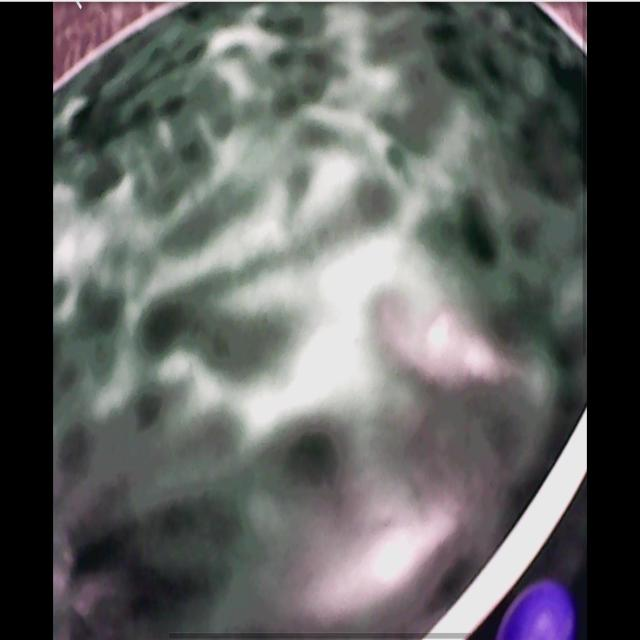ball: (500, 583, 577, 640)
